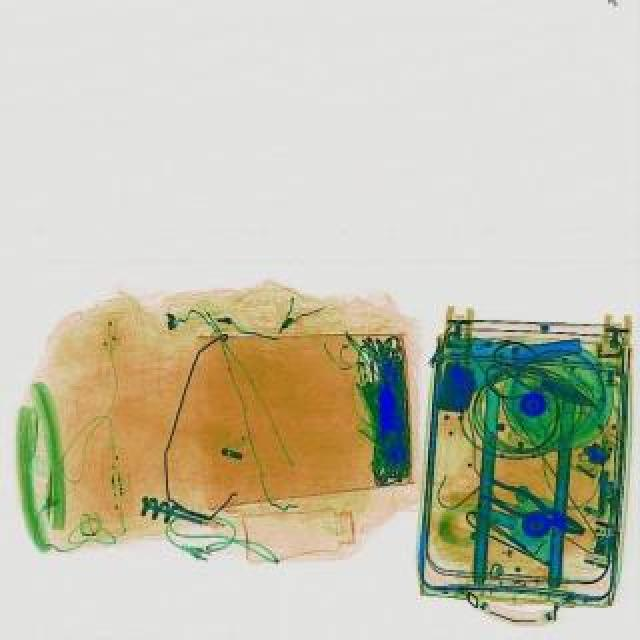pliers: (474, 332, 606, 428)
wrench: (474, 472, 590, 544)
